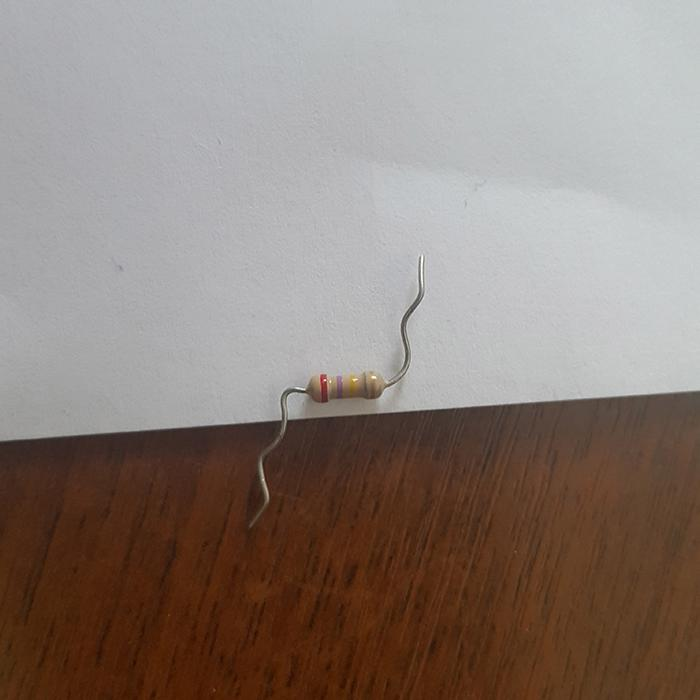resistor: (306, 370, 388, 402)
